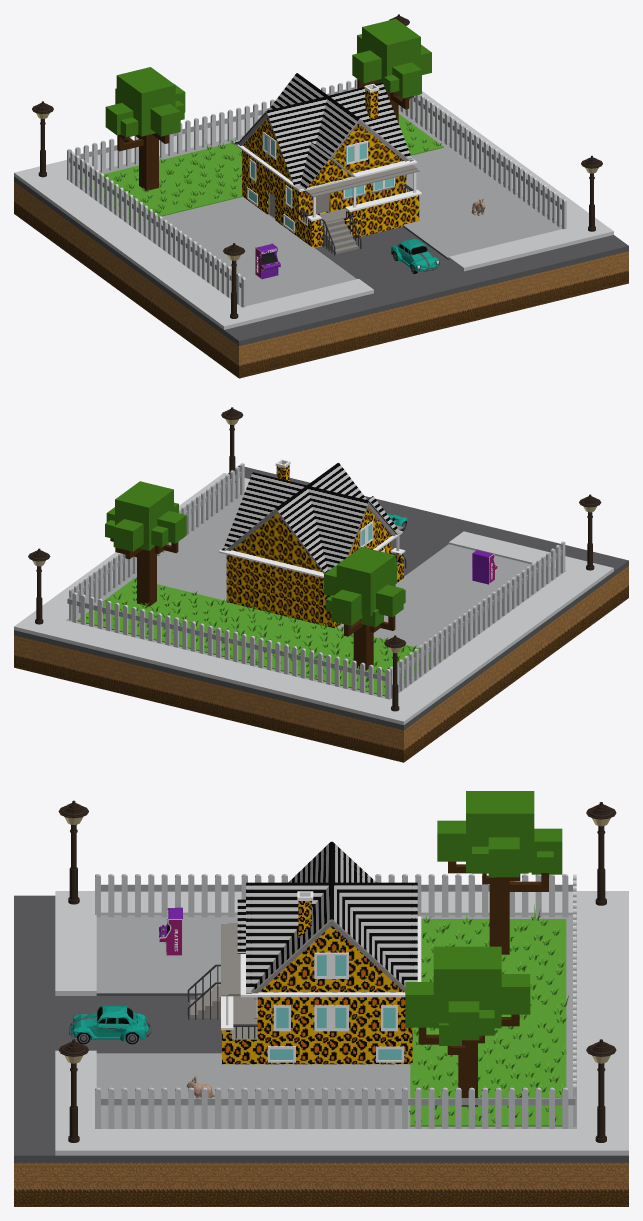
3 views of the same model, one above another, from view 1: azimuth 30°, elevation 25°; view 2: azimuth 150°, elevation 25°; view 3: azimuth 270°, elevation 25° (orthographic). The views are drawn at different scales.
Parts seen in each view (by area): view 1: Cube.004, Cube.637, VEHICLES_VOLKSWAGEN, OBJRANDOM_ARCADE; view 2: Cube.004, Cube.637, OBJRANDOM_ARCADE; view 3: Cube.004, Cube.637, VEHICLES_VOLKSWAGEN, OBJRANDOM_ARCADE.
Boxes of the visible parts, x1=… form: Cube.004: x1=14, y1=14, x2=628, y2=378; Cube.637: x1=233, y1=73, x2=421, y2=255; VEHICLES_VOLKSWAGEN: x1=390, y1=239, x2=439, y2=273; OBJRANDOM_ARCADE: x1=255, y1=243, x2=280, y2=279; Cube.004: x1=14, y1=407, x2=628, y2=762; Cube.637: x1=218, y1=459, x2=406, y2=627; OBJRANDOM_ARCADE: x1=472, y1=549, x2=497, y2=584; Cube.004: x1=14, y1=791, x2=628, y2=1206; Cube.637: x1=187, y1=841, x2=421, y2=1064; VEHICLES_VOLKSWAGEN: x1=69, y1=1006, x2=151, y2=1044; OBJRANDOM_ARCADE: x1=159, y1=907, x2=182, y2=956.
Bounding box in the file's own units: 4000 × 1601 × 4000.
Materials: 44 (4 with a texture image).
